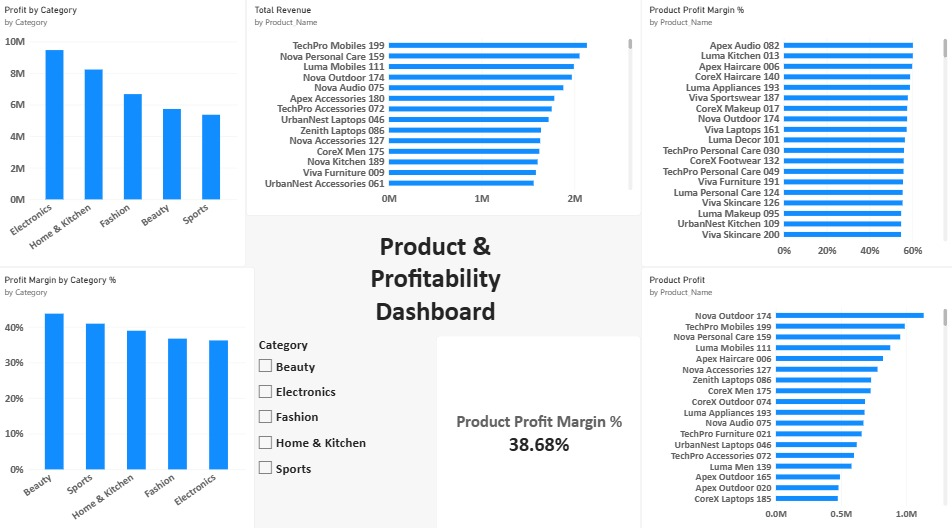

The page's visual inventory and layout, read from the dashboard file:
{"tool":"powerbi","page":{"name":"Product & Profitability","canvas":[1920,1080],"ordinal":3},"visuals":[{"type":"clusteredColumnChart","fields":{"Category":["Products.Category"],"Y":["Customers.Profit by Category"]},"box":[0,0,500,540],"z":0},{"type":"clusteredColumnChart","fields":{"Category":["Products.Category"],"Y":["Customers.Profit Margin by Category %"]},"box":[0,540,517.5,540],"z":2},{"type":"barChart","fields":{"Category":["Products.Product_Name"],"Y":["Orders.Total Revenue"]},"box":[500,0,790,437.5],"z":3},{"type":"barChart","fields":{"Category":["Products.Product_Name"],"Y":["Customers.Product Profit"]},"box":[1290,540,630,527.5],"z":4},{"type":"cardVisual","fields":{"Data":["Customers.Product Profit Margin %"]},"box":[880,677.5,410,390],"z":5},{"type":"barChart","fields":{"Category":["Products.Product_Name"],"Y":["Customers.Product Profit Margin %"]},"box":[1290,0,630,540],"z":6},{"type":"slicer","fields":{"Values":["Products.Category"]},"box":[517.5,677.5,362.5,402.5],"z":7},{"type":"textbox","box":[670,465,417.5,235],"z":8}]}

Visuals, with their boxes in screenshot pixels (x1, y1, x2, y2), scaled from the page's 1920x1080 canvas onto the 952x528 screenshot:
clusteredColumnChart - Products.Category x Customers.Profit by Category: rect(0, 0, 248, 264)
clusteredColumnChart - Products.Category x Customers.Profit Margin by Category %: rect(0, 264, 257, 527)
barChart - Products.Product_Name x Orders.Total Revenue: rect(248, 0, 640, 214)
barChart - Products.Product_Name x Customers.Product Profit: rect(640, 264, 951, 522)
cardVisual - Customers.Product Profit Margin %: rect(436, 331, 640, 522)
barChart - Products.Product_Name x Customers.Product Profit Margin %: rect(640, 0, 951, 264)
slicer - Products.Category: rect(257, 331, 436, 527)
textbox: rect(332, 227, 539, 342)
